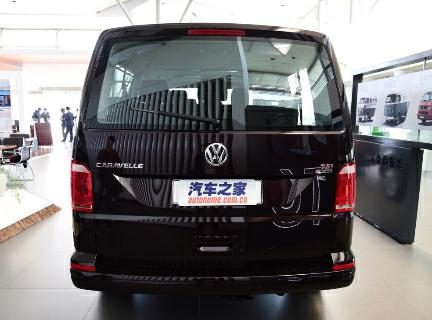大众-凯路威: (65, 19, 362, 300)
